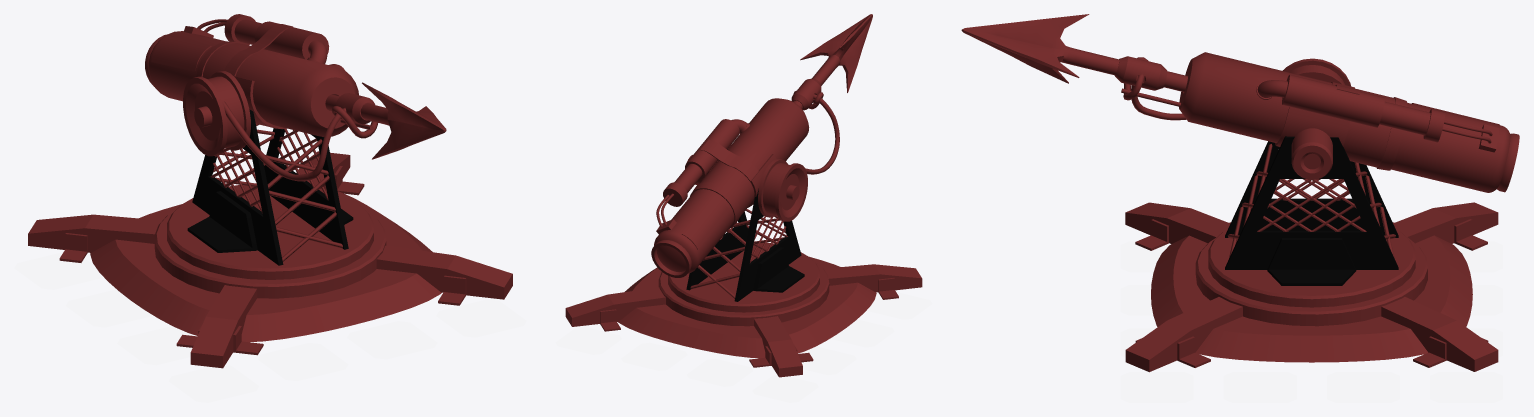
File: SketchFabExport.fbx
The picture shows the model from 3 angles, left to right: view 1: azimuth 30°, elevation 25°; view 2: azimuth 150°, elevation 25°; view 3: azimuth 270°, elevation 25°; orthographic projection. The views are drawn at different scales.
Parts seen in each view (by area): view 1: Base1; view 2: Base1; view 3: Base1.
Part boxes in pixels (x1=…): Base1: x1=28, y1=14, x2=512, y2=368; Base1: x1=565, y1=14, x2=922, y2=377; Base1: x1=961, y1=14, x2=1519, y2=372.
Bounding box in the file's own units: 283 × 244 × 412.
